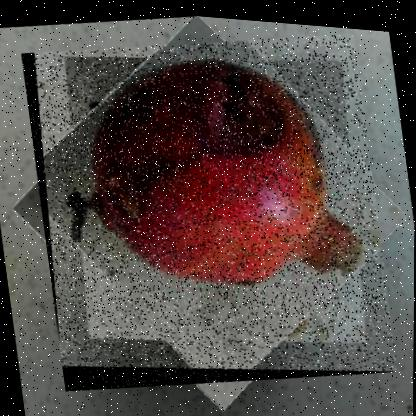pomegranate_rotten: (17, 5, 399, 411)
